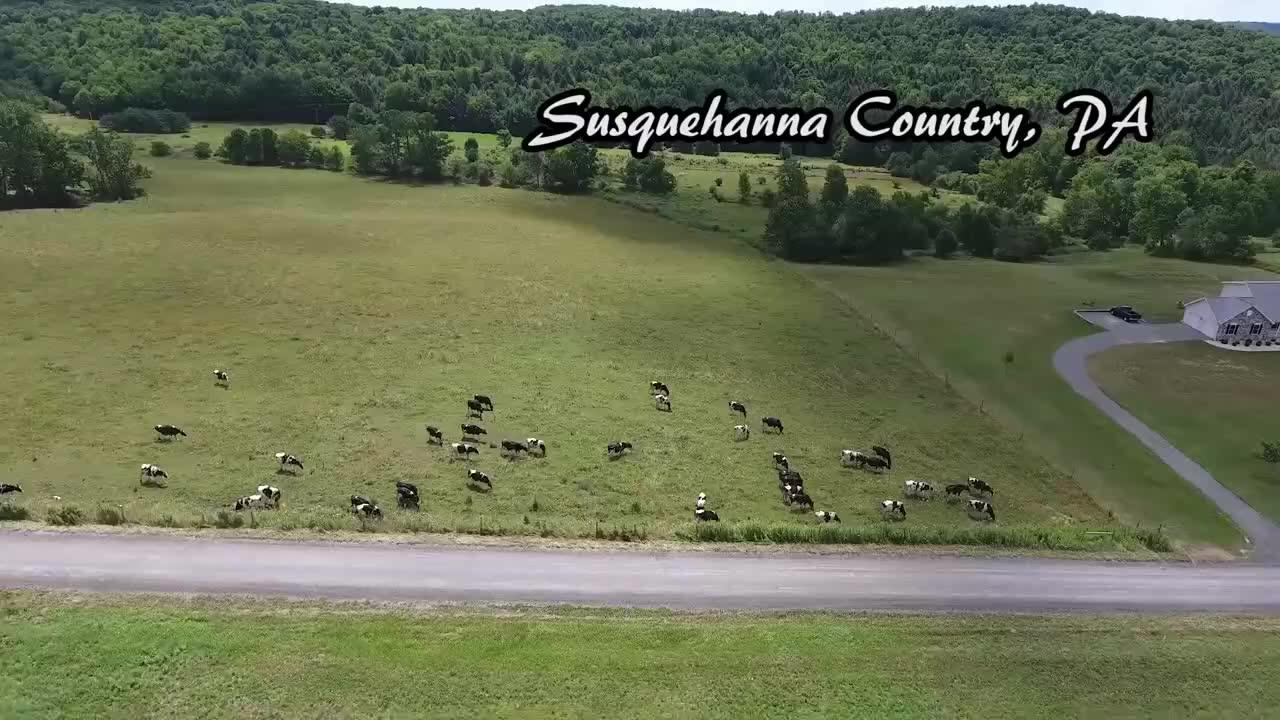cow: (272, 450, 306, 479), (136, 461, 171, 489), (153, 422, 188, 446), (966, 499, 998, 524), (226, 492, 264, 512), (903, 478, 935, 501), (466, 467, 495, 492), (254, 482, 282, 507), (966, 476, 997, 498), (210, 365, 235, 392), (450, 441, 479, 463), (500, 437, 529, 459), (0, 482, 26, 506), (839, 448, 866, 471), (880, 499, 909, 520), (784, 494, 817, 512), (604, 439, 633, 459), (458, 420, 489, 438), (353, 503, 383, 521), (866, 455, 894, 474), (527, 435, 550, 458), (727, 398, 750, 421), (760, 415, 784, 437), (814, 509, 844, 526), (473, 392, 497, 413), (943, 482, 971, 500), (424, 423, 444, 448), (395, 496, 424, 513), (465, 398, 486, 420), (772, 449, 793, 471), (872, 443, 894, 464), (694, 509, 724, 524), (653, 393, 674, 414), (393, 479, 422, 494), (731, 423, 751, 443), (780, 473, 804, 488), (650, 378, 670, 395), (780, 484, 809, 495), (347, 492, 368, 507), (694, 488, 708, 510)
